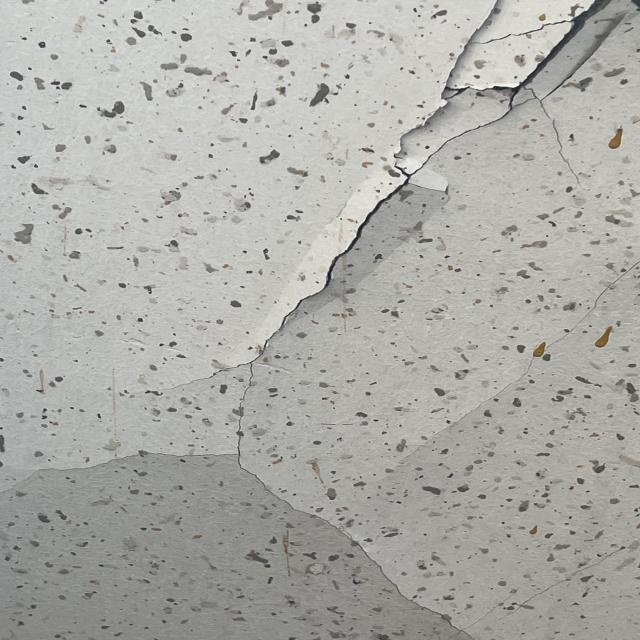crack: (9, 312, 489, 637)
spalling: (270, 3, 639, 316)
